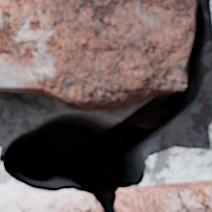brick: (0, 0, 197, 109)
broken_brick: (119, 179, 211, 211), (0, 183, 102, 211)
crack: (0, 0, 210, 211)
